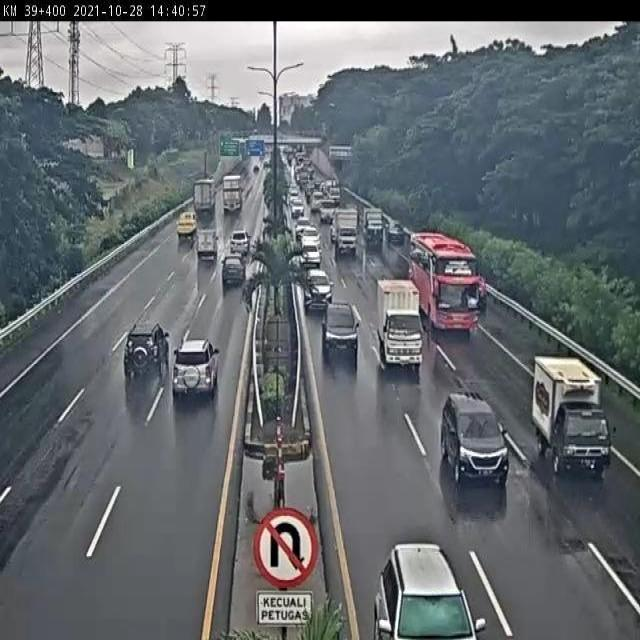Bus: (409, 230, 486, 336)
Car: (373, 541, 485, 640), (440, 392, 510, 486), (173, 338, 220, 402), (125, 321, 169, 384), (319, 300, 361, 360), (303, 268, 335, 313), (222, 254, 246, 289), (299, 243, 323, 267), (384, 220, 404, 246), (318, 198, 338, 224), (229, 231, 252, 252), (298, 226, 322, 244), (288, 198, 304, 218), (293, 215, 311, 231), (310, 190, 324, 210)
Truck: (530, 353, 616, 476), (377, 278, 425, 372), (333, 209, 358, 256), (222, 173, 245, 216), (362, 208, 384, 248), (194, 178, 216, 216), (197, 230, 220, 264), (176, 212, 198, 242)
